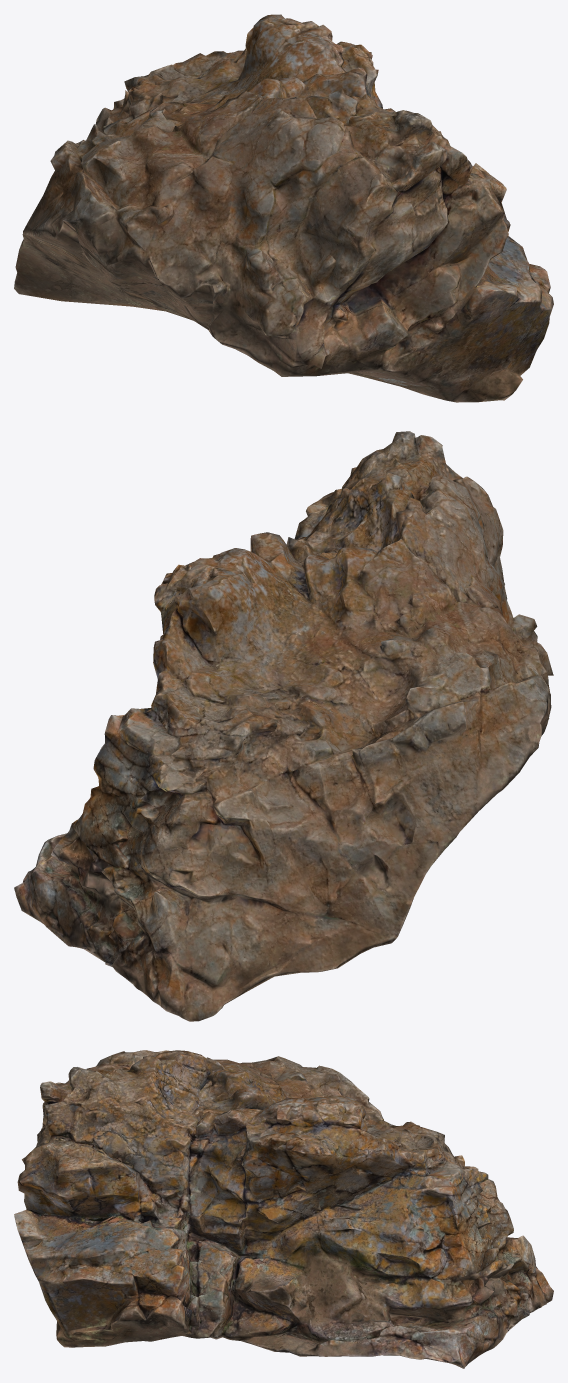
Rendered from boulder_01.glb.
The picture shows the model from 3 angles, top to bottom: view 1: azimuth 30°, elevation 25°; view 2: azimuth 150°, elevation 25°; view 3: azimuth 270°, elevation 25°; orthographic projection. The views are drawn at different scales.
Visible parts, largest first — view 1: boulder_01; view 2: boulder_01; view 3: boulder_01.
Boxes of the visible parts, left/top/right/bottom form: boulder_01: left=14, top=14, right=553, bottom=402; boulder_01: left=14, top=431, right=553, bottom=1021; boulder_01: left=14, top=1050, right=553, bottom=1368.
Size of the model in its own units: 1.26 by 1 by 1.83.
1 material, 1 textured.
